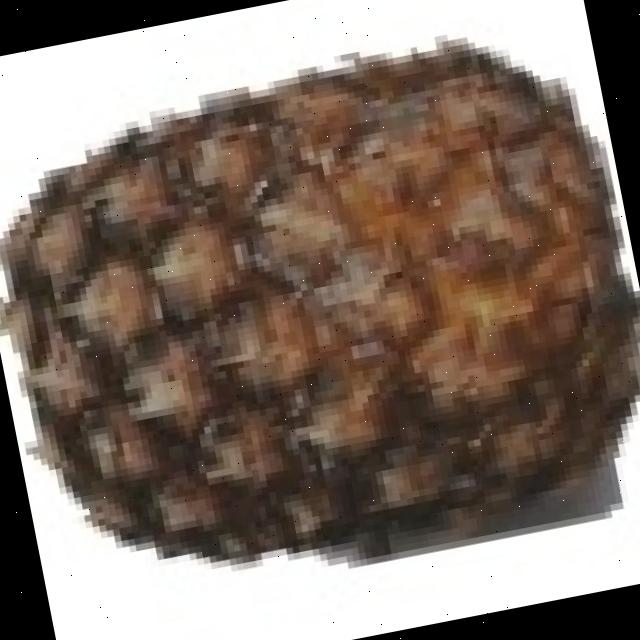pineapple: (0, 36, 625, 548)
